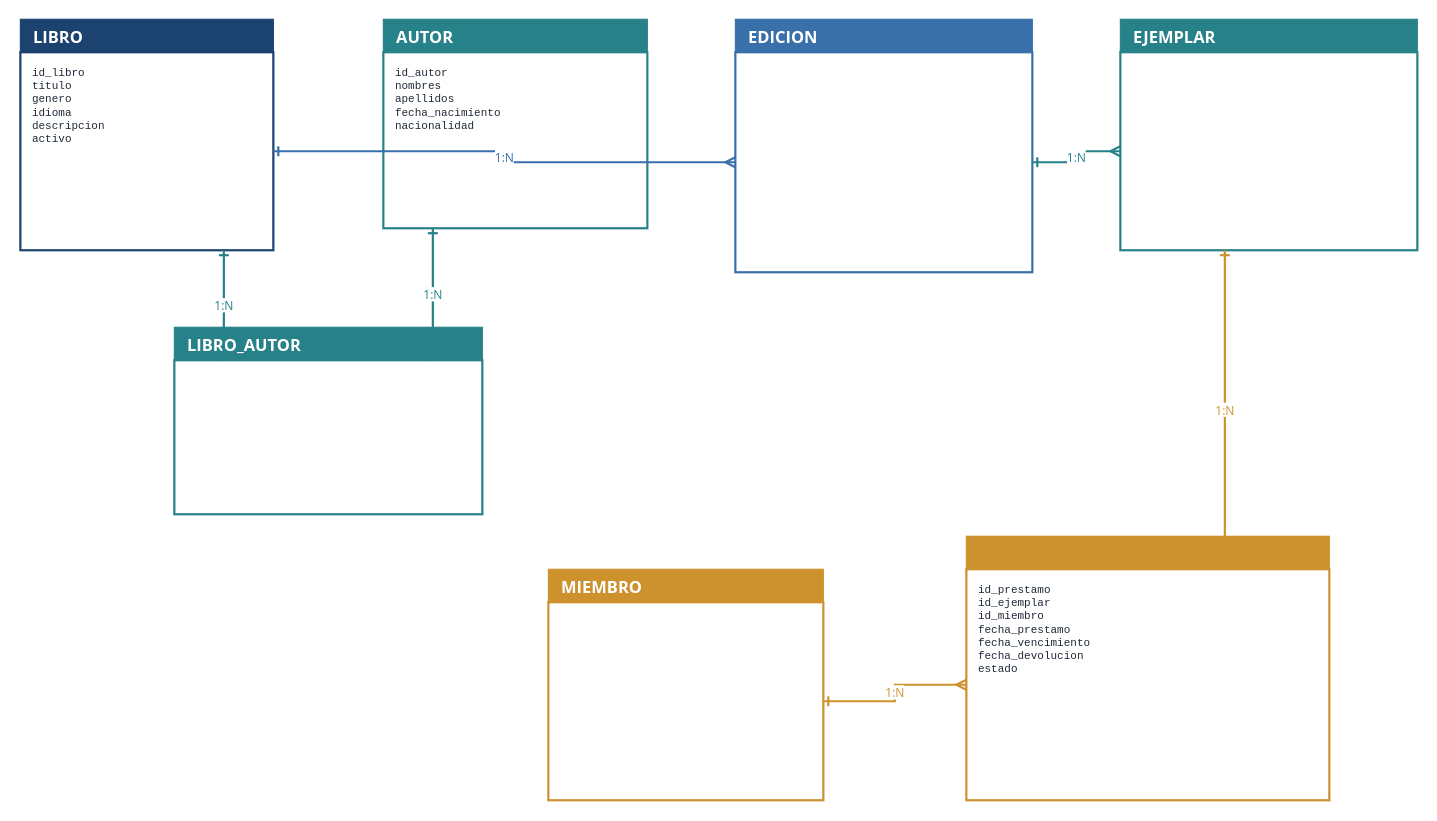
The diagram is 1437 pixels wide and 821 high, and some of its shapes have lost their labels. Each missing label, with the centre of its shape:
"id_edicion id_libro isbn numero_edicion fecha_publicacion editorial formato" goes at [883,162].
"id_ejemplar id_edicion codigo_inventario ubicacion estado fecha_alta" goes at [1268,151].
"id_libro id_autor orden_autoria rol_autoria" goes at [328,437].
"id_miembro documento nombres apellidos correo estado" goes at [685,701].
"PRESTAMO" goes at [1147,552].
